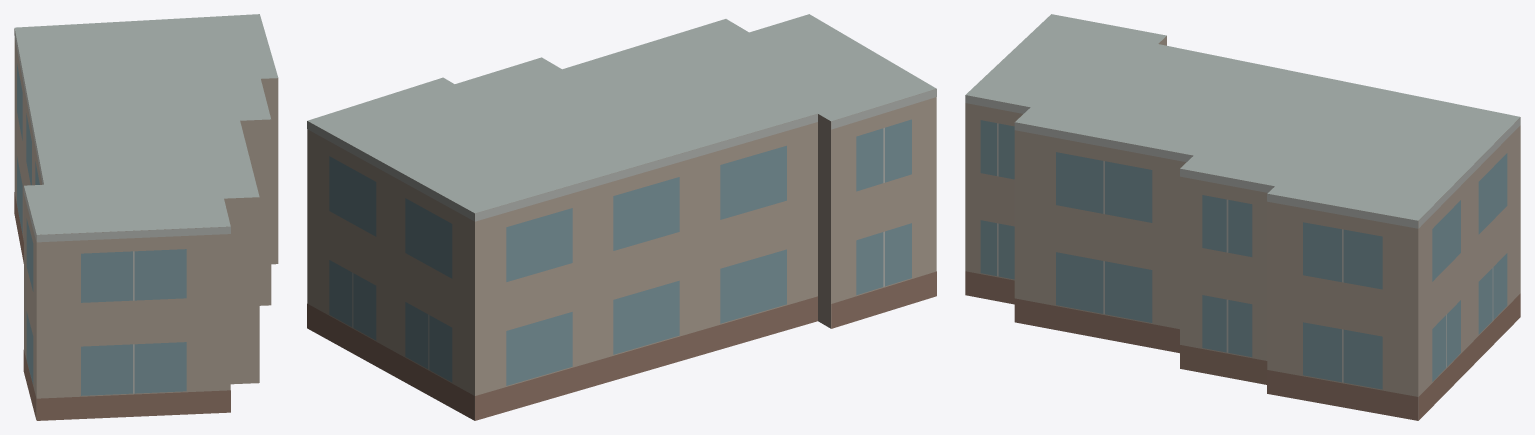
Rendered from survey-upis-32773225.glb.
The picture shows the model from 3 angles, left to right: view 1: azimuth 30°, elevation 25°; view 2: azimuth 150°, elevation 25°; view 3: azimuth 270°, elevation 25°; orthographic projection. The views are drawn at different scales.
Parts seen in each view (by area): view 1: survey-upis-32773225.tmp; view 2: survey-upis-32773225.tmp; view 3: survey-upis-32773225.tmp.
Boxes of the visible parts, left/top/right/bottom form: survey-upis-32773225.tmp: left=14, top=14, right=278, bottom=420; survey-upis-32773225.tmp: left=307, top=14, right=936, bottom=420; survey-upis-32773225.tmp: left=965, top=14, right=1520, bottom=420.
Size of the model in its own units: 13.53 by 6.1 by 15.35.
